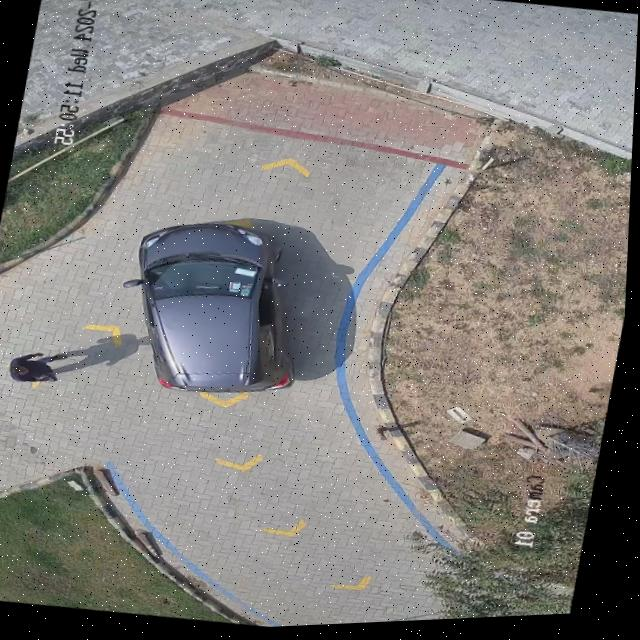car: (128, 222, 296, 394)
